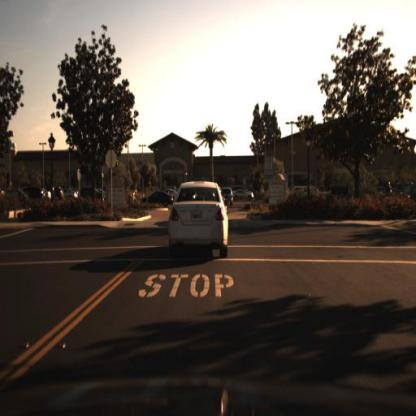car: (165, 181, 233, 264), (216, 184, 236, 209), (76, 189, 110, 203), (146, 191, 175, 207), (232, 189, 255, 205), (229, 190, 252, 204)
